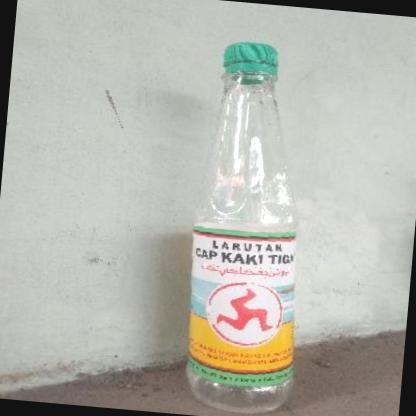plastic_bottles: (174, 35, 329, 416)
